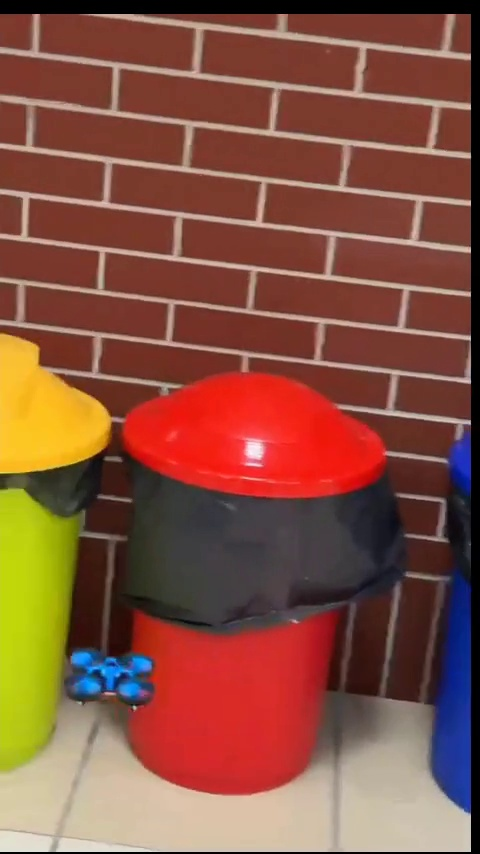drone: (62, 647, 157, 712)
